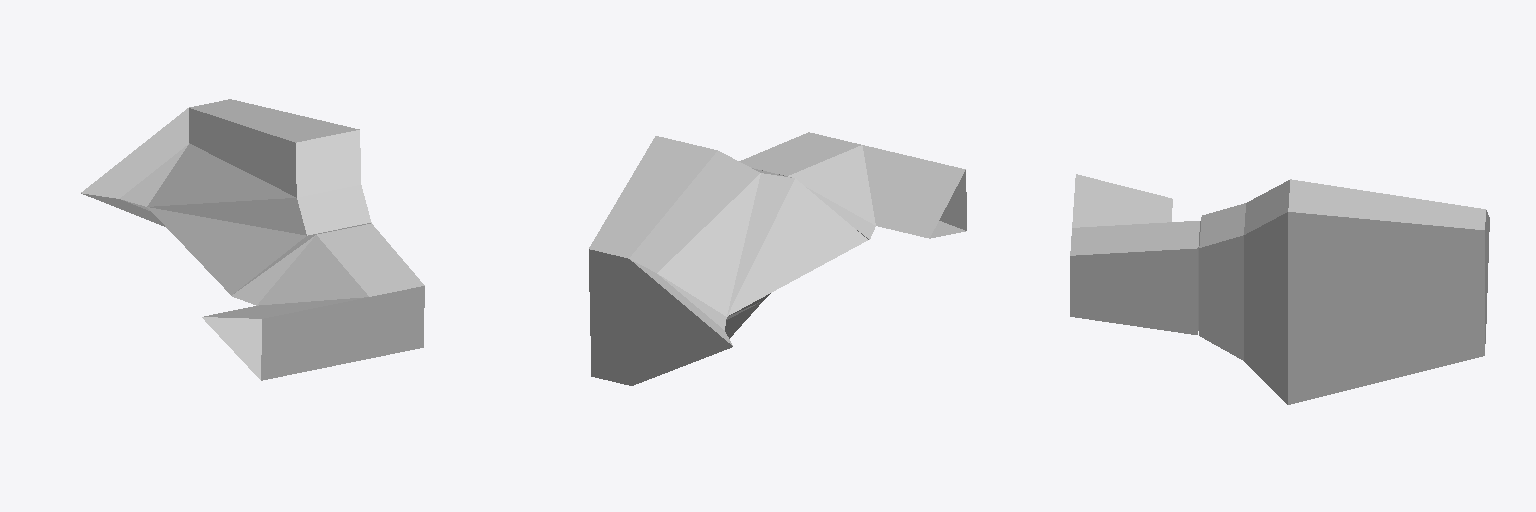
The model's file is gargoyle.obj.
3 renders of one model, left to right at view 1: azimuth 30°, elevation 25°; view 2: azimuth 150°, elevation 25°; view 3: azimuth 270°, elevation 25°, orthographic.
Visible parts, largest first — view 1: gargoyle; view 2: gargoyle; view 3: gargoyle.
Part boxes in pixels (x1,y1,x2,y2): gargoyle: (81, 99, 424, 380); gargoyle: (589, 132, 966, 385); gargoyle: (1070, 174, 1489, 404).
Bounding box in the file's own units: 8.93 × 7.77 × 15.01.